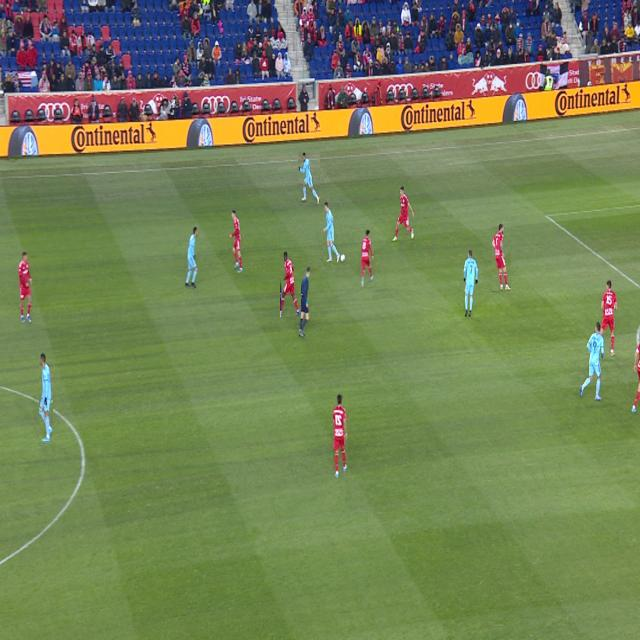football: (340, 254, 346, 264)
player: (580, 322, 604, 400), (281, 251, 301, 318), (392, 185, 415, 242), (492, 223, 511, 291), (600, 280, 617, 356), (333, 393, 348, 478), (39, 353, 53, 442), (298, 151, 320, 205), (463, 248, 479, 317), (323, 202, 340, 263), (18, 250, 32, 323), (230, 210, 243, 273), (185, 227, 198, 288), (361, 228, 374, 287), (631, 341, 640, 413)
referee: (299, 267, 311, 338)
